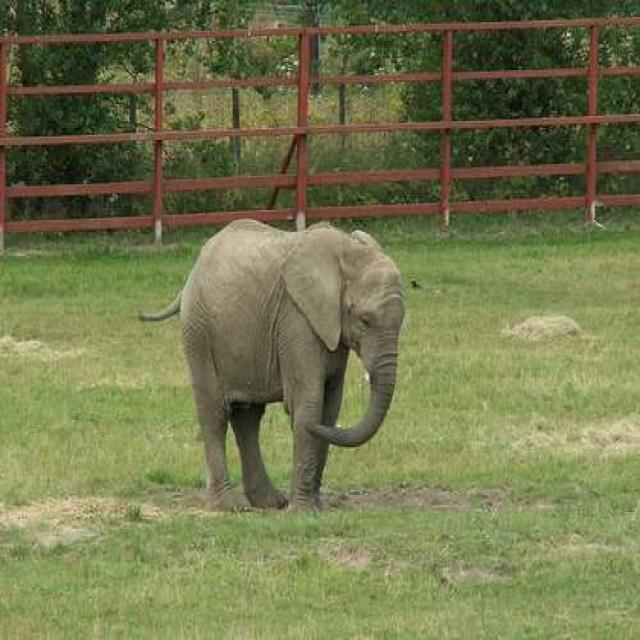Elephant: (138, 215, 404, 515)
